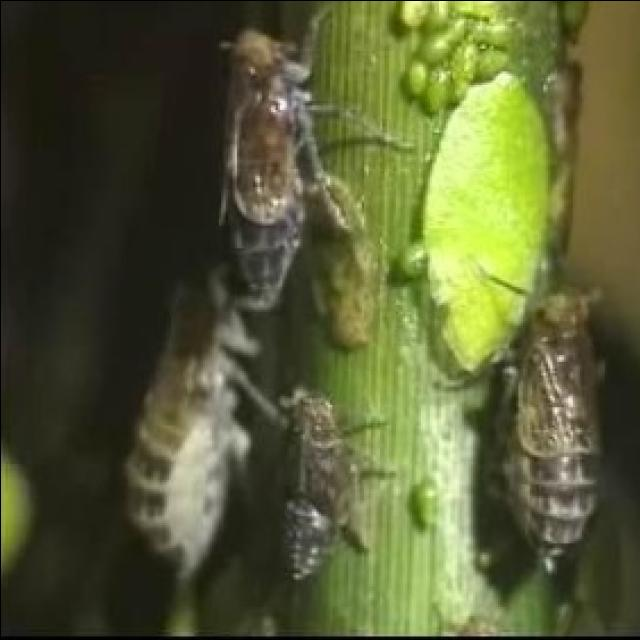brown plant hopper: (406, 70, 599, 570), (218, 2, 409, 309), (120, 266, 272, 604), (279, 386, 363, 579)
